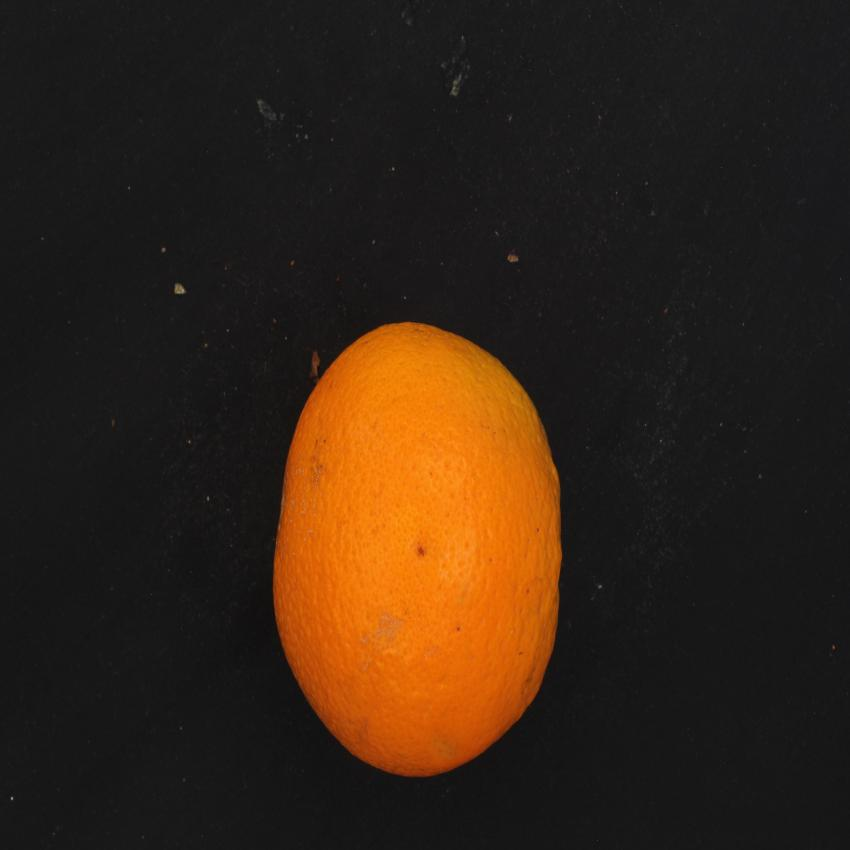Buen estado: (266, 306, 569, 790)
